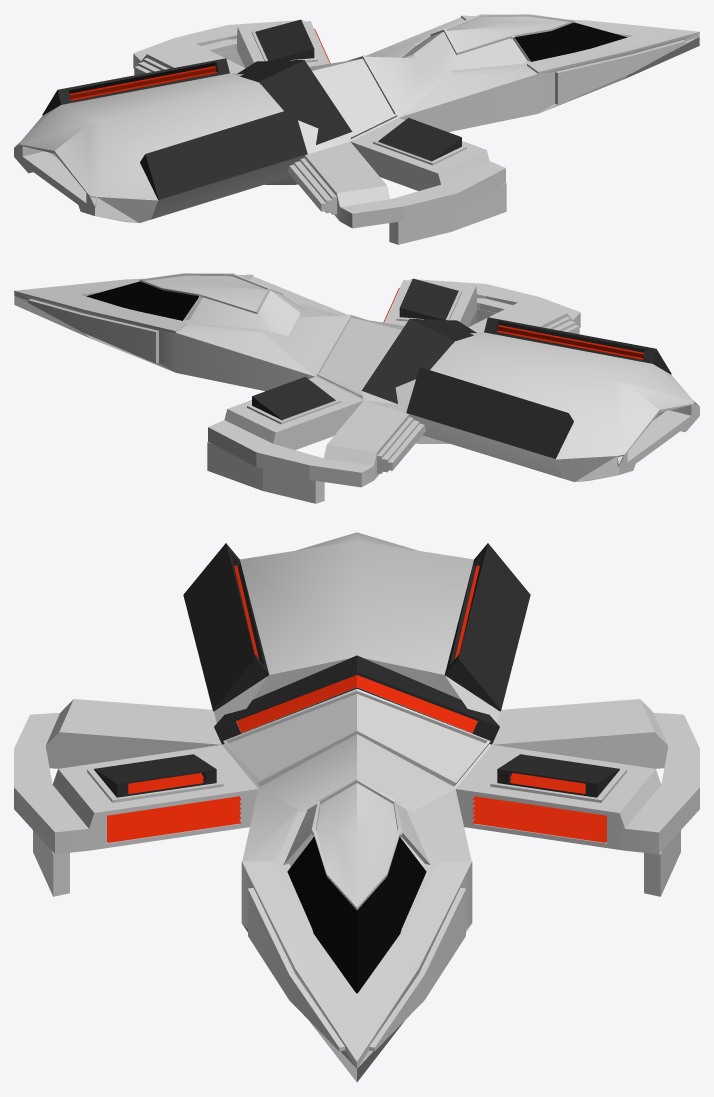
The model's file is vehicle_enemyShip4.fbx.
3 renders of one model, top to bottom at view 1: azimuth 30°, elevation 25°; view 2: azimuth 150°, elevation 25°; view 3: azimuth 270°, elevation 25°, orthographic. The views are drawn at different scales.
Parts seen in each view (by area): view 1: Cube; view 2: Cube; view 3: Cube.
Part boxes in pixels (bbox=[...]): Cube: bbox=[14, 14, 699, 244]; Cube: bbox=[14, 273, 699, 503]; Cube: bbox=[14, 532, 699, 1081].
Size of the model in its own units: 965 by 165 by 595.
